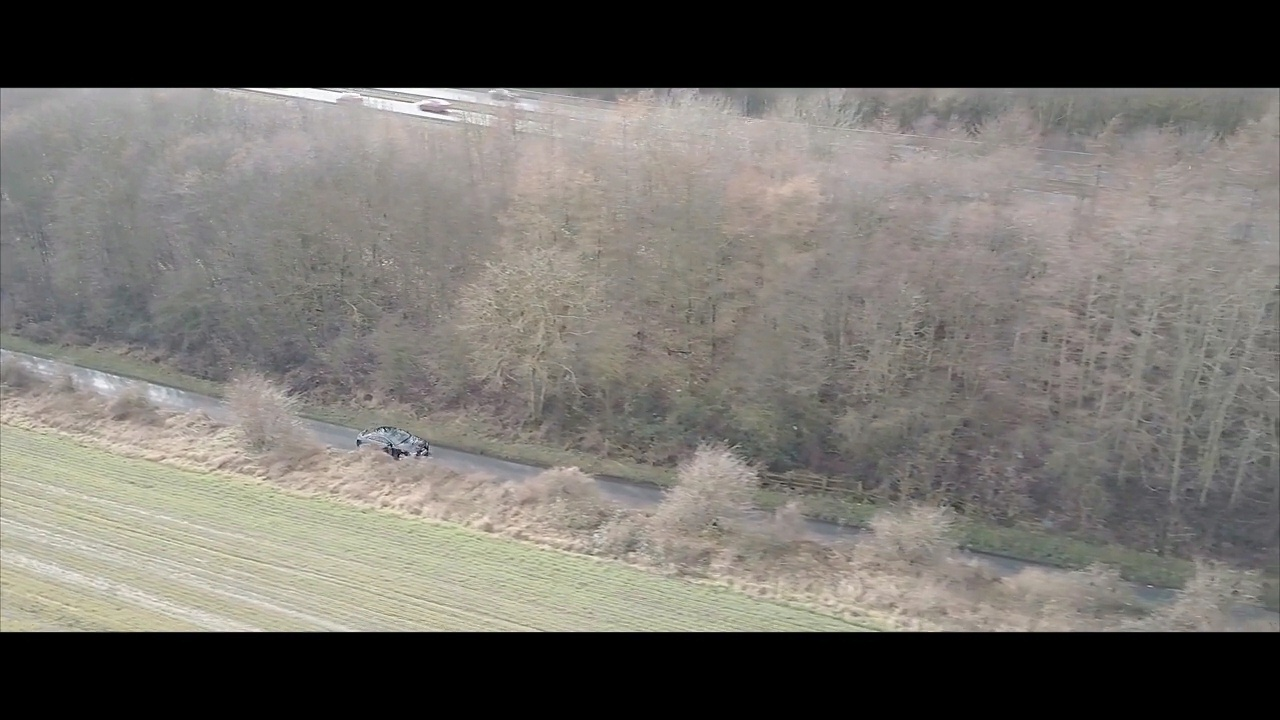araba: (356, 419, 432, 465)
